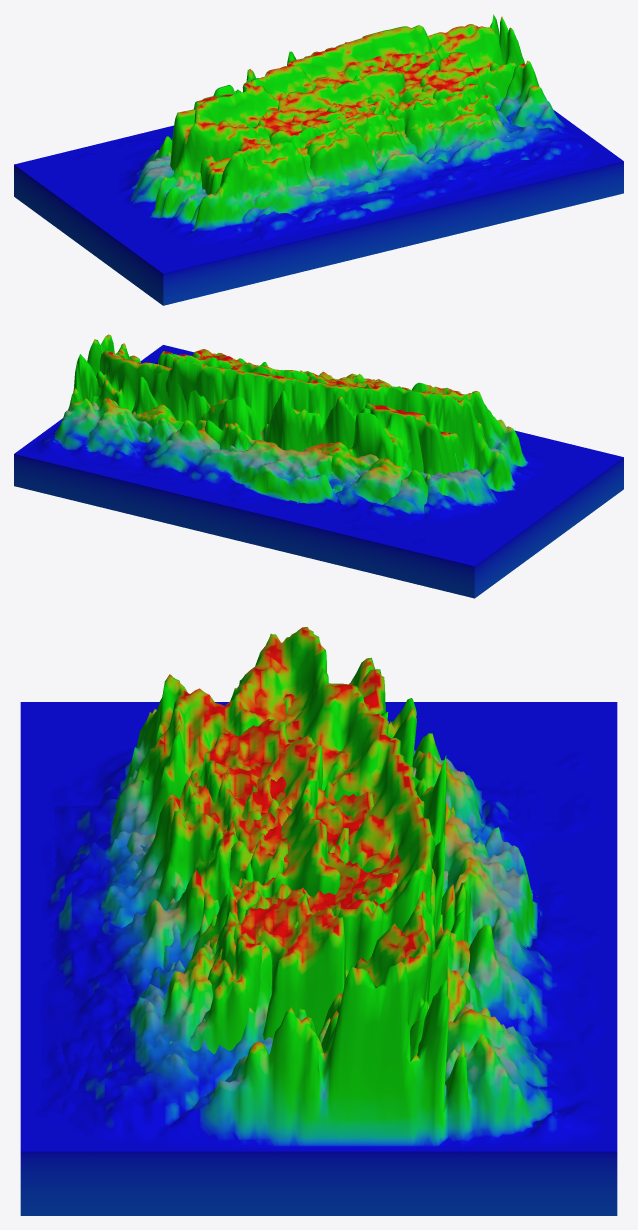
The model's file is authored_escarpments_v1.glb.
3 renders of one model, top to bottom at view 1: azimuth 30°, elevation 25°; view 2: azimuth 150°, elevation 25°; view 3: azimuth 270°, elevation 25°, orthographic. The views are drawn at different scales.
Parts seen in each view (by area): view 1: WesternButtress_LOD0, EasternFins_LOD0, NorthernShoulder_LOD0; view 2: WesternButtress_LOD0, EasternFins_LOD0, NorthernShoulder_LOD0; view 3: WesternButtress_LOD0, EasternFins_LOD0, NorthernShoulder_LOD0.
Part boxes in pixels (box(x1,y1,x2,y2)): WesternButtress_LOD0: box(14, 14, 623, 305); EasternFins_LOD0: box(193, 24, 605, 244); NorthernShoulder_LOD0: box(114, 52, 529, 234); WesternButtress_LOD0: box(14, 334, 623, 598); EasternFins_LOD0: box(90, 351, 426, 518); NorthernShoulder_LOD0: box(132, 349, 486, 532); WesternButtress_LOD0: box(20, 627, 617, 1215); EasternFins_LOD0: box(44, 669, 541, 1142); NorthernShoulder_LOD0: box(99, 657, 553, 1072).
Size of what is drawn, in the model's own units: 510 by 128 by 286.
